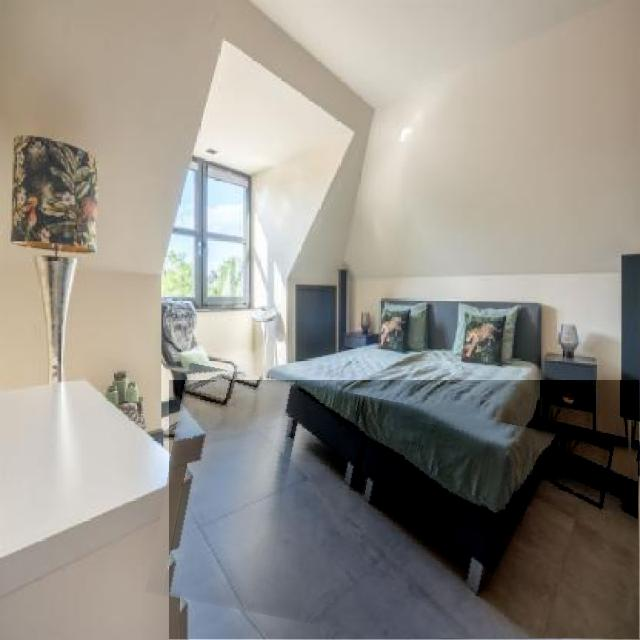floor: (169, 381, 639, 639)
